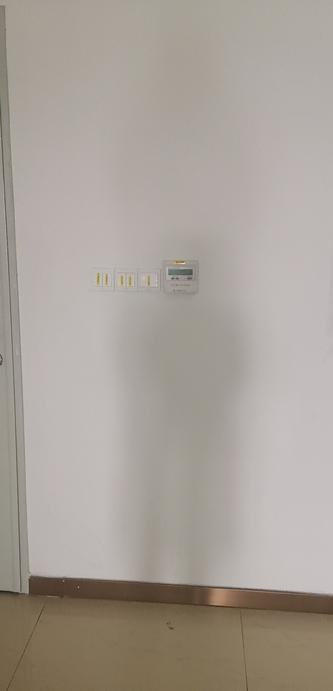switch: (137, 272, 159, 288), (116, 271, 126, 289), (101, 269, 111, 286), (127, 272, 136, 288), (94, 269, 101, 286)
